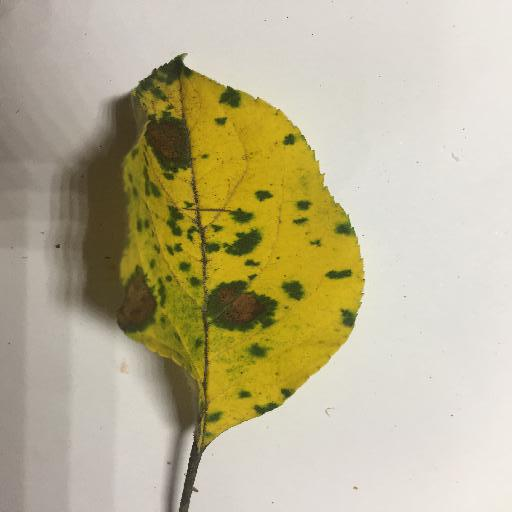Brown_Spot: (203, 282, 277, 329), (150, 119, 192, 167), (116, 275, 154, 327)
